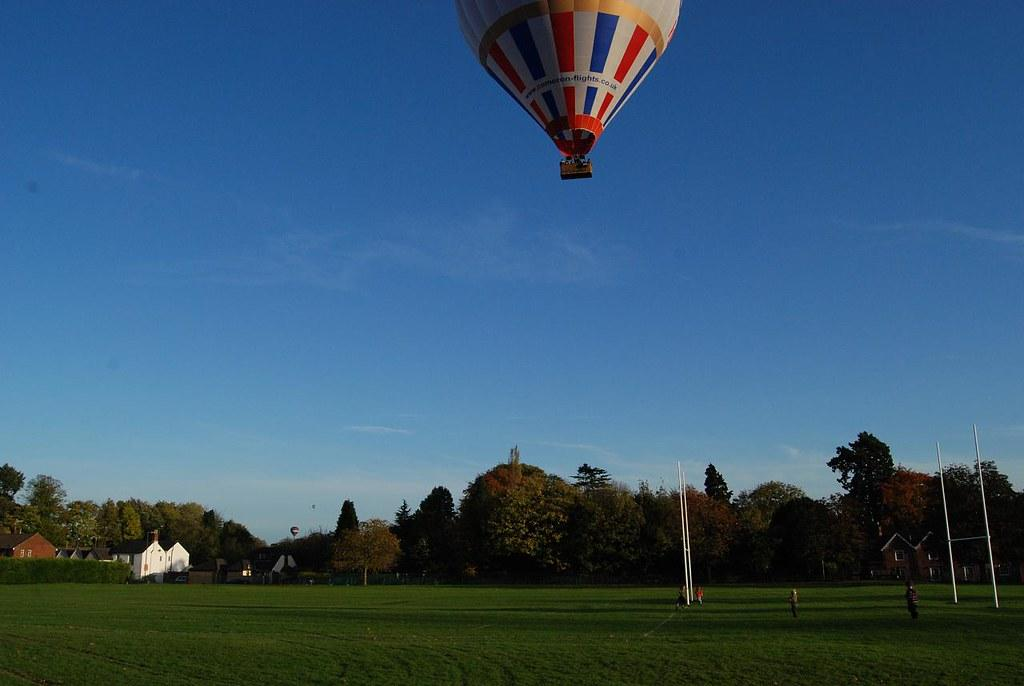balloon: (454, 1, 682, 180)
